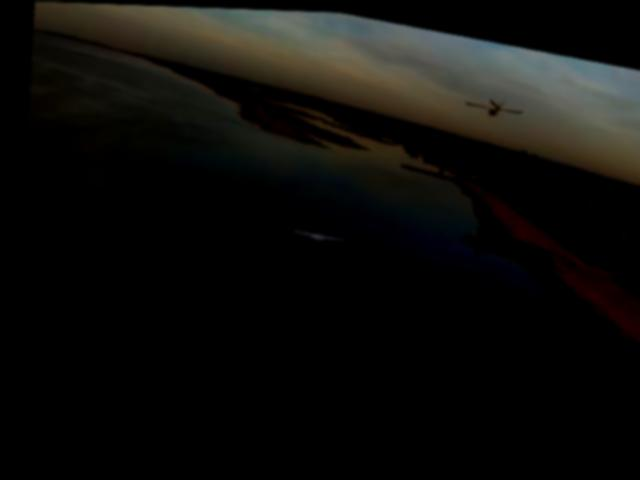uav: (459, 90, 523, 123), (283, 222, 342, 248)
